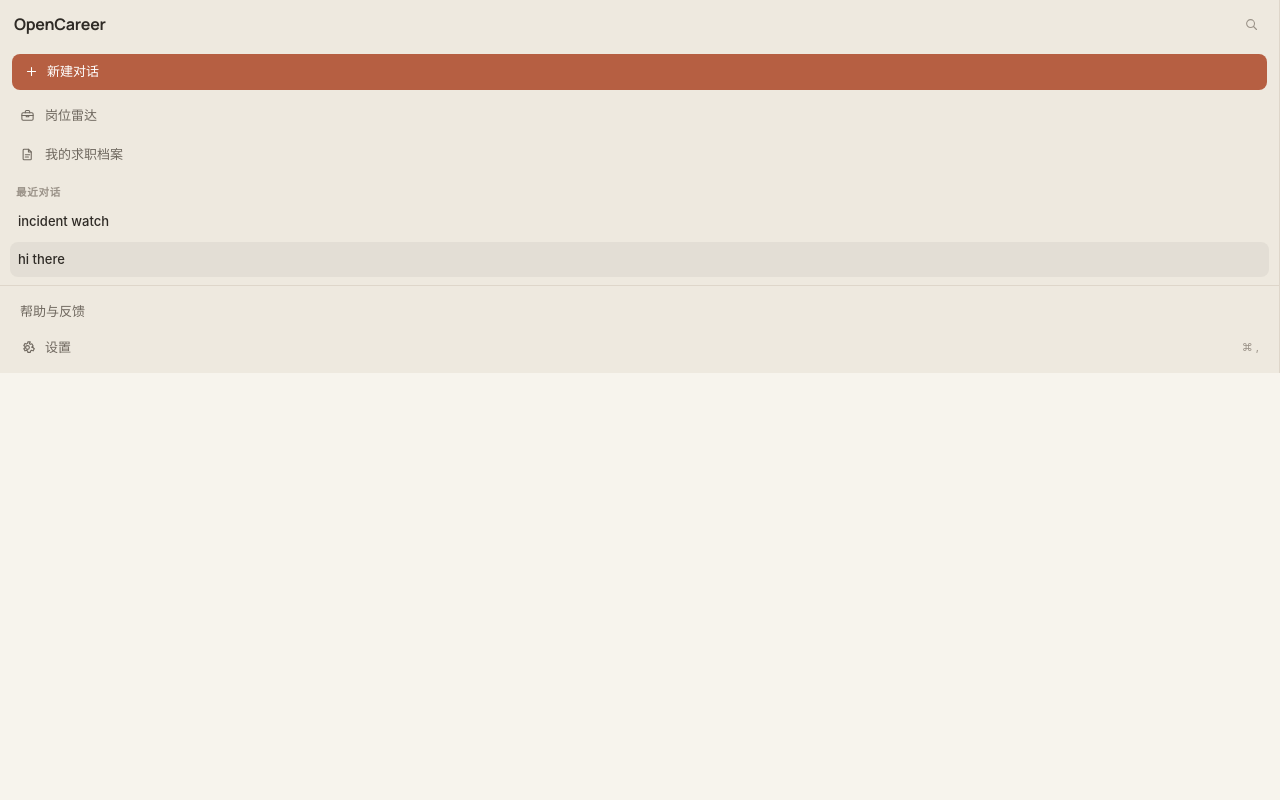
it: OpenCareer brand › opens conversation search from the brand row without a search nav item
This screenshot has width=1280, height=800.
Expected: the button "搜索" is not shown
Step 1. Click the button named "搜索对话" → (1251, 24), box [1237, 10, 1265, 38]
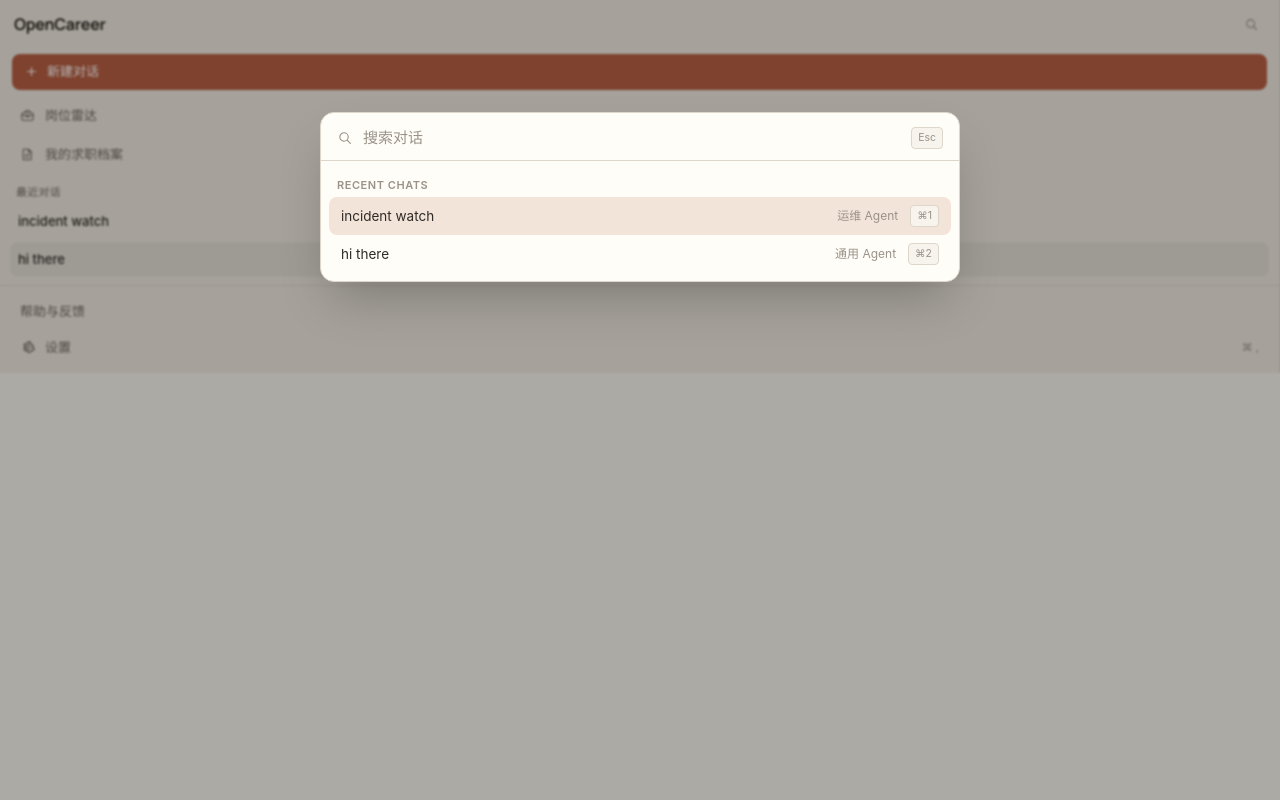
Expected: the field with placeholder "搜索对话" is shown, [363, 127, 901, 150]
